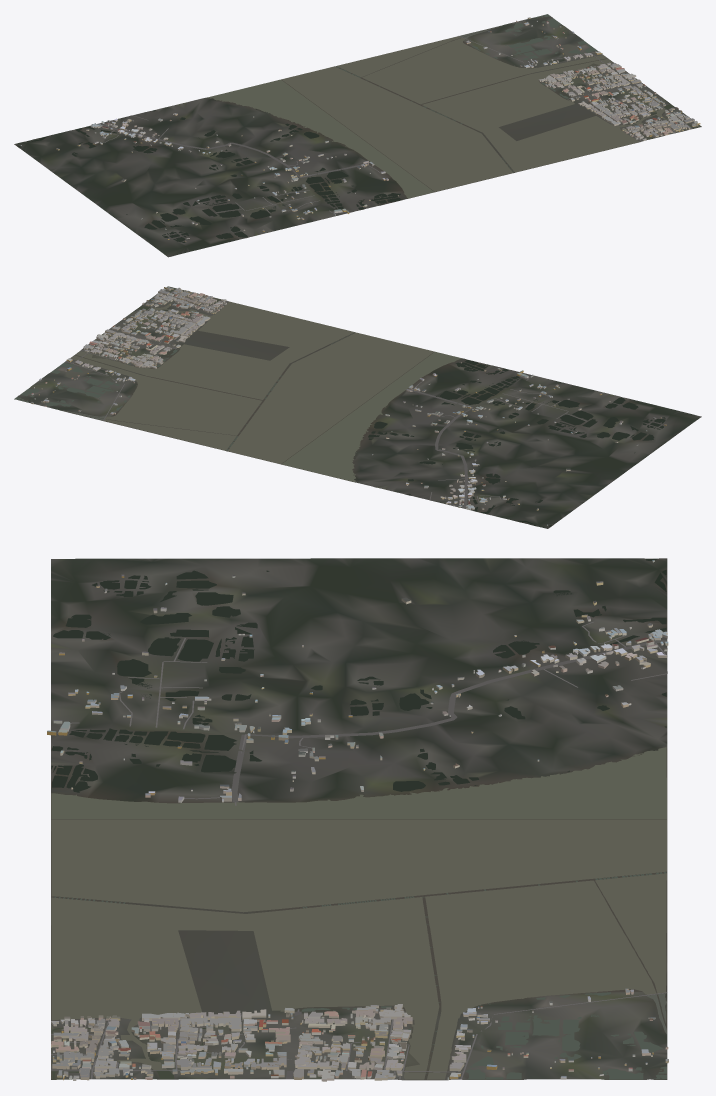
3 views of the same model, one above another, from view 1: azimuth 30°, elevation 25°; view 2: azimuth 150°, elevation 25°; view 3: azimuth 270°, elevation 25° (orthographic). The views are drawn at different scales.
Visible parts, largest first — view 1: ground, water, buildings, roads; view 2: ground, water, buildings, roads; view 3: ground, water, buildings, roads.
Boxes of the visible parts, x1=… form: ground: x1=14, y1=15, x2=701, y2=257; water: x1=17, y1=14, x2=700, y2=242; buildings: x1=20, y1=17, x2=700, y2=241; roads: x1=98, y1=36, x2=691, y2=213; ground: x1=14, y1=286, x2=701, y2=528; water: x1=15, y1=286, x2=665, y2=527; buildings: x1=31, y1=287, x2=666, y2=525; roads: x1=66, y1=291, x2=586, y2=508; ground: x1=51, y1=558, x2=667, y2=1080; water: x1=51, y1=558, x2=666, y2=1079; buildings: x1=47, y1=560, x2=668, y2=1081; roads: x1=51, y1=622, x2=667, y2=1079.
Bounding box in the file's own units: 2813 × 14.94 × 1414.
